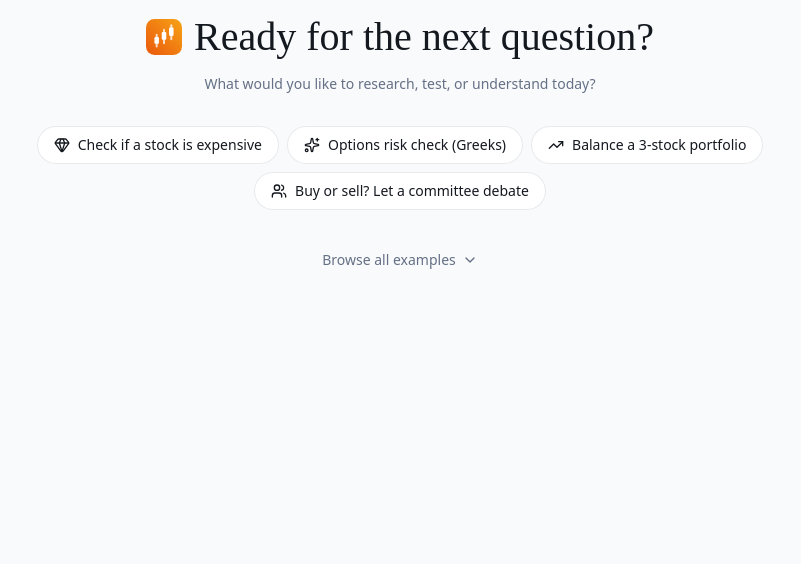
Test case: WelcomeScreen › reveals eight category tabs and switches example cards from the disclosure
This screenshot has width=801, height=564.
Expected: the button "A-Share MACD Strategy" is not shown
Click the button "Browse all examples". click: coordinates (400, 260)
box: [322,250,478,270]
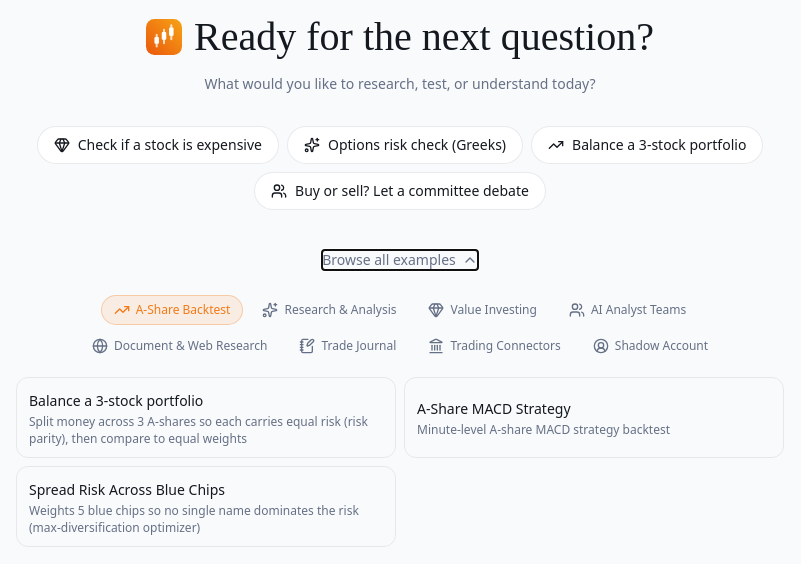
Now the button "Browse all examples" is expanded, box [322,250,478,270]
Now the number of tabs is 8
Now the text "A-Share Backtest" is shown, box [136,302,230,318]
Click the tab "Value Investing". click: coordinates (483, 310)
box: [416,295,550,325]
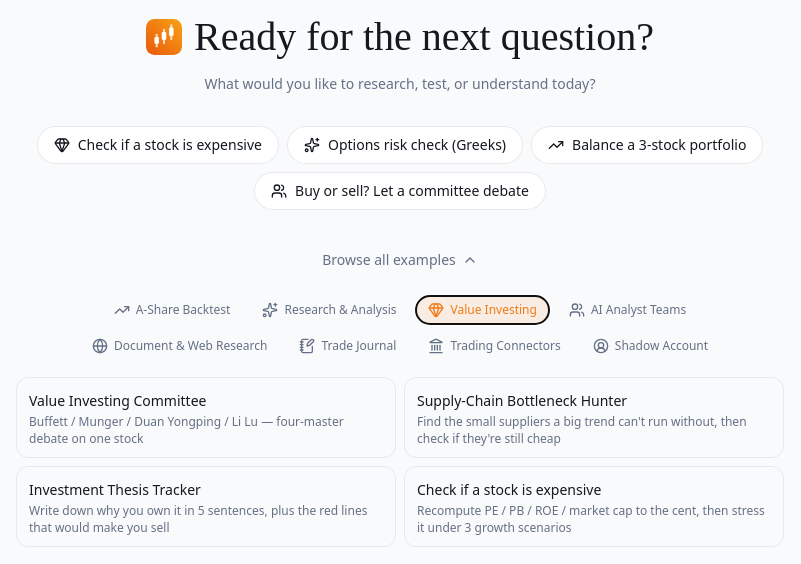
Now the button "Check if a stock is expensive" is shown, box [404,466,784,547]
